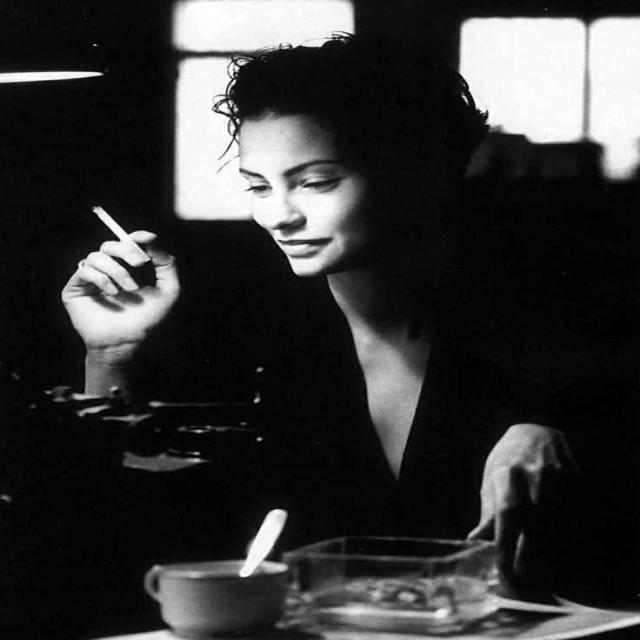Smooking: (86, 202, 144, 240)
